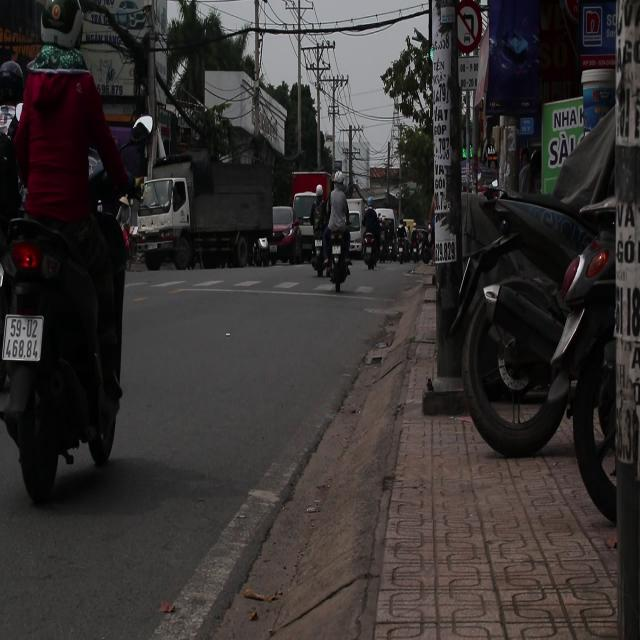car: (271, 207, 303, 264)
motorbike: (0, 196, 126, 487), (318, 199, 362, 292), (359, 200, 381, 287), (306, 200, 326, 272)
truck: (138, 150, 275, 272), (136, 165, 196, 272), (290, 172, 332, 255)
